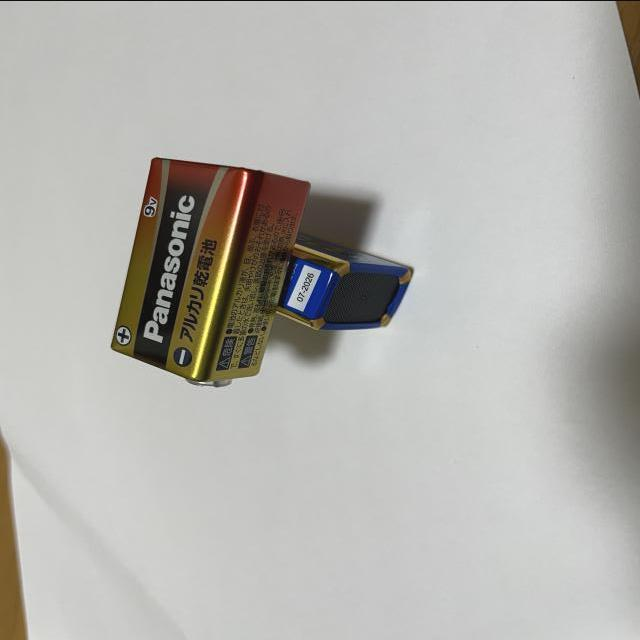9V: (108, 156, 312, 387), (273, 227, 414, 331)
